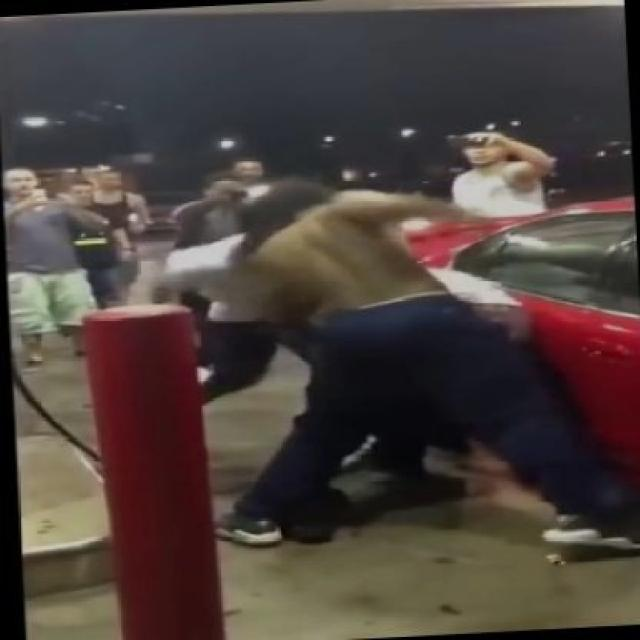fight: (135, 165, 636, 622)
